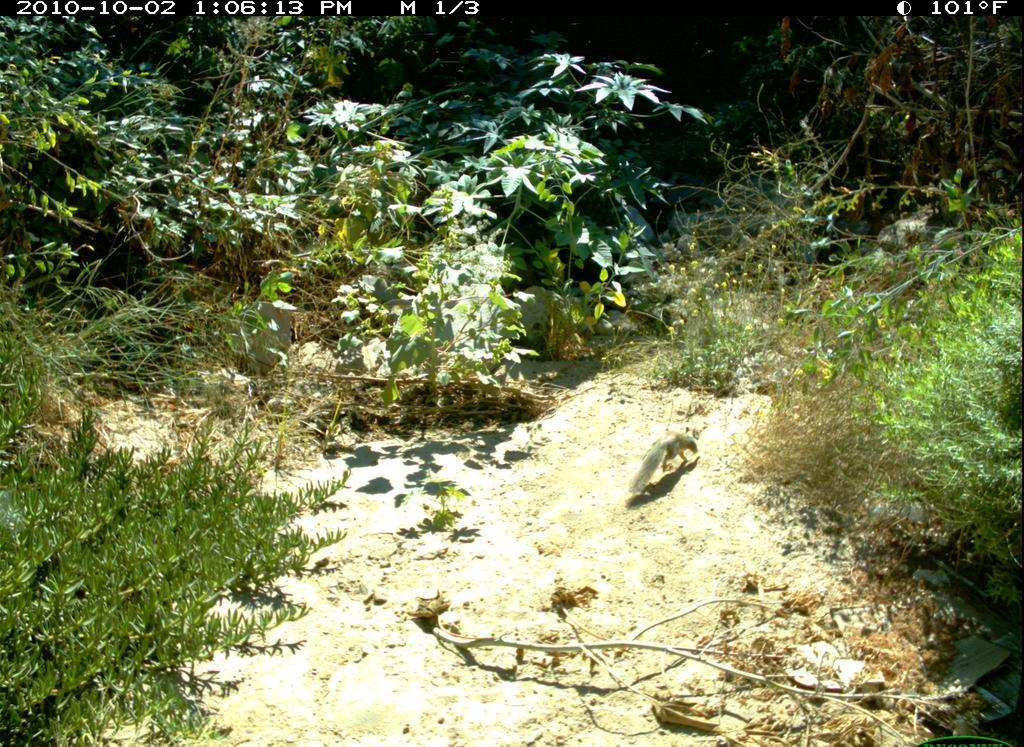squirrel: (621, 420, 708, 509)
